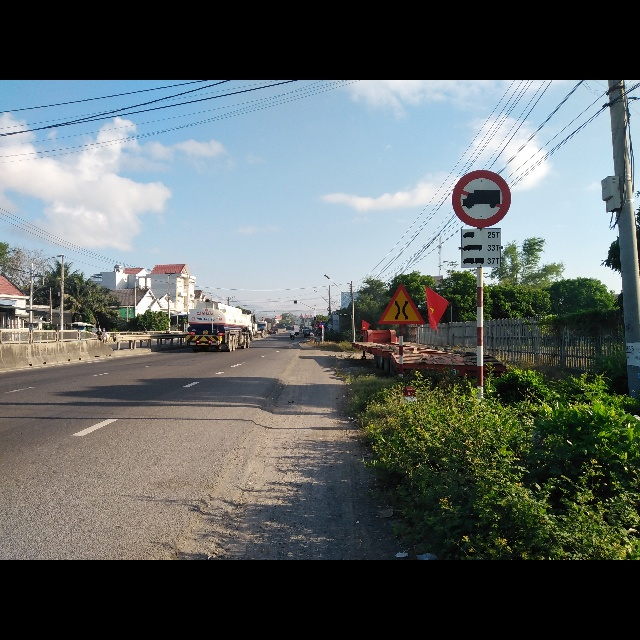Cấm xe tải: (450, 169, 512, 229)
Cầu hẹp: (379, 285, 425, 327)
